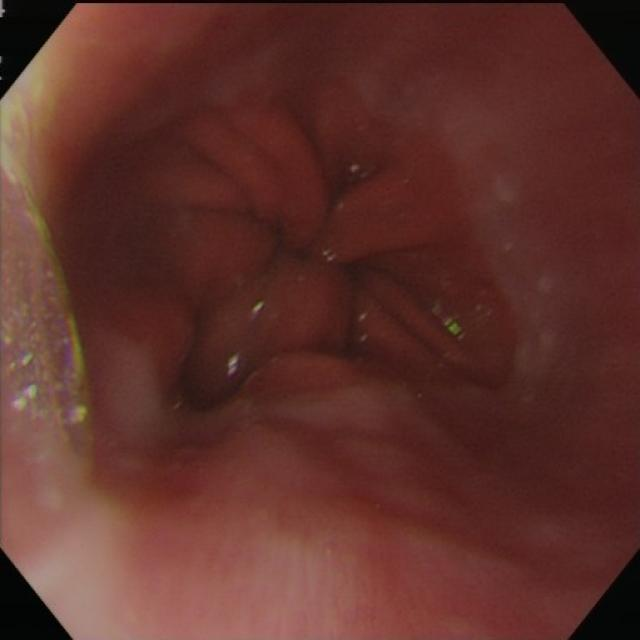I: (174, 80, 479, 396)
T: (2, 92, 99, 528), (339, 159, 378, 190)
U: (432, 302, 464, 346), (225, 350, 242, 376), (357, 311, 369, 345), (322, 248, 338, 269), (249, 302, 267, 316)
